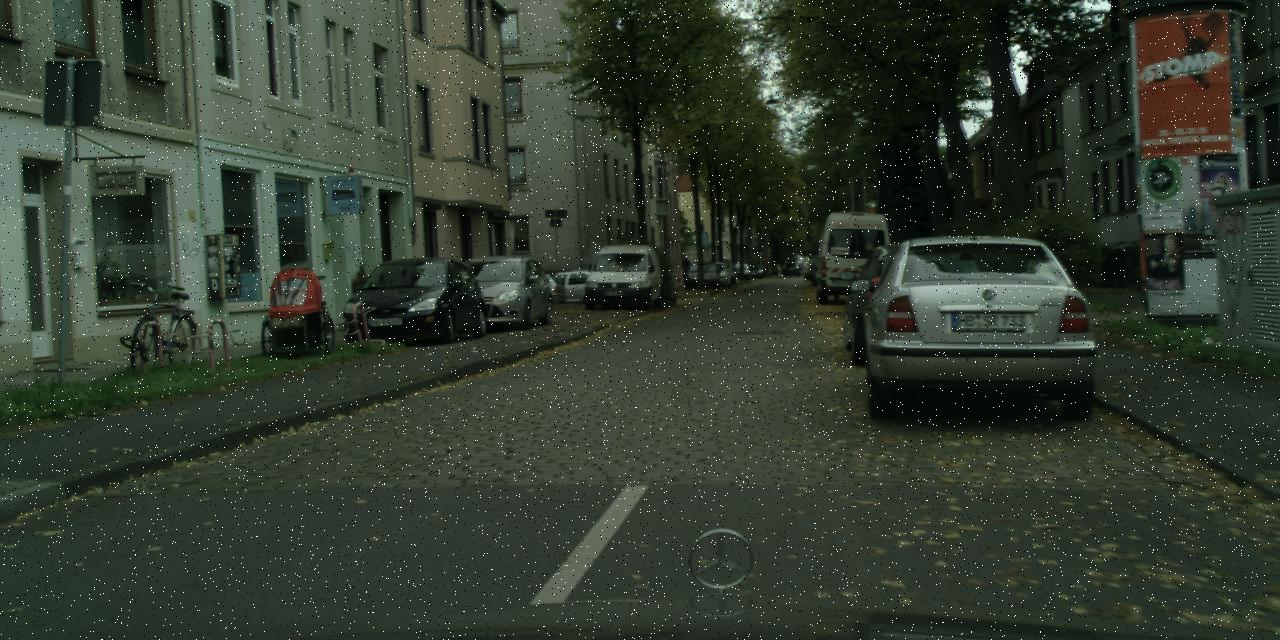ped: (681, 256, 690, 279)
